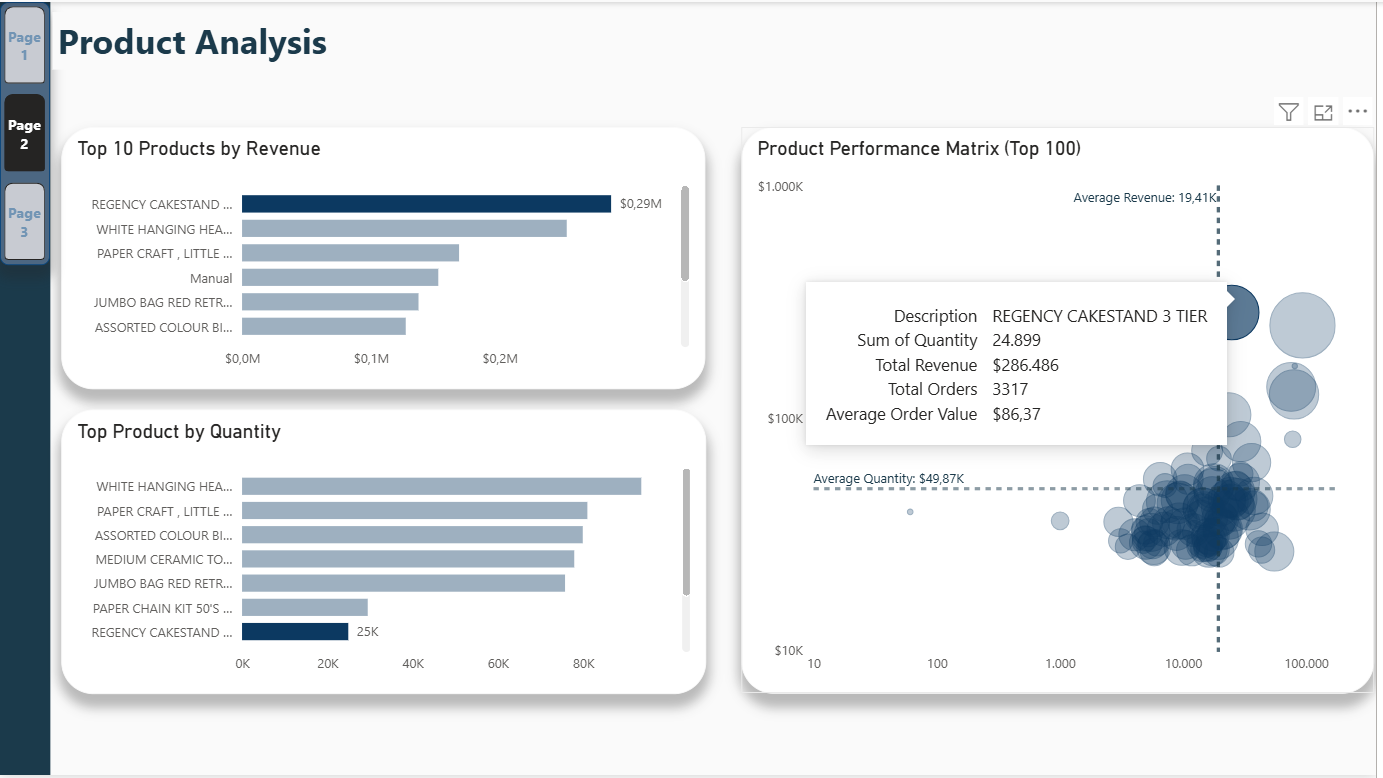

The page's visual inventory and layout, read from the dashboard file:
{"tool":"powerbi","page":{"name":"Page 2","canvas":[1280,720],"ordinal":1},"visuals":[{"type":"clusteredBarChart","title":"Top 10 Products by Revenue","fields":{"Category":["online_retail_cleaned.Description"],"Y":["online_retail_cleaned.Total Revenue"]},"box":[57.2,116.6,599.3,244.1],"z":0},{"type":"shape","box":[-0.7,0,48,720],"z":2000},{"type":"pageNavigator","box":[0,0,46.6,244.8],"z":3000},{"type":"scatterChart","title":"Product Performance Matrix (Top 100)","fields":{"Category":["online_retail_cleaned.Description"],"X":["Sum(online_retail_cleaned.Quantity)"],"Y":["online_retail_cleaned.Total Revenue"],"Size":["online_retail_cleaned.Total Orders"]},"box":[689.5,116,588.8,527.5],"z":4000},{"type":"clusteredBarChart","title":"Top Product by Quantity","fields":{"Category":["online_retail_cleaned.Description"],"Y":["Sum(online_retail_cleaned.Quantity)"]},"box":[57.2,379.4,600.4,265],"z":5000},{"type":"textbox","box":[48.4,8.8,270.5,53.9],"z":5001}]}

Visuals, with their boxes on the page's 1280x720 design canvas (x1, y1, x2, y2). These are canvas units, not pixel positions in the 1383x778 screenshot, which may show the page scaled, cropped or inside an application window:
"Top 10 Products by Revenue" clusteredBarChart: BBox(57, 117, 656, 361)
shape: BBox(-1, 0, 47, 720)
pageNavigator: BBox(0, 0, 47, 245)
"Product Performance Matrix (Top 100)" scatterChart: BBox(690, 116, 1278, 644)
"Top Product by Quantity" clusteredBarChart: BBox(57, 379, 658, 644)
textbox: BBox(48, 9, 319, 63)
